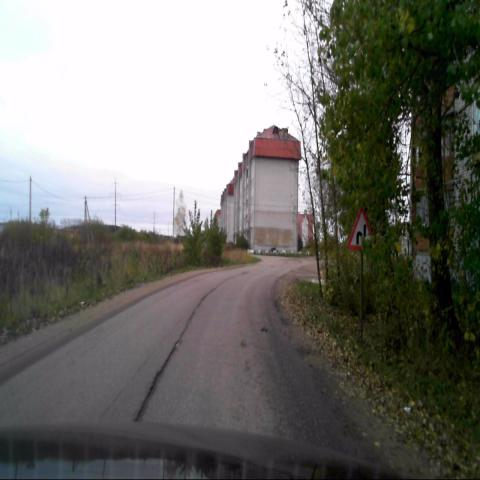1_12: (348, 209, 372, 249)
